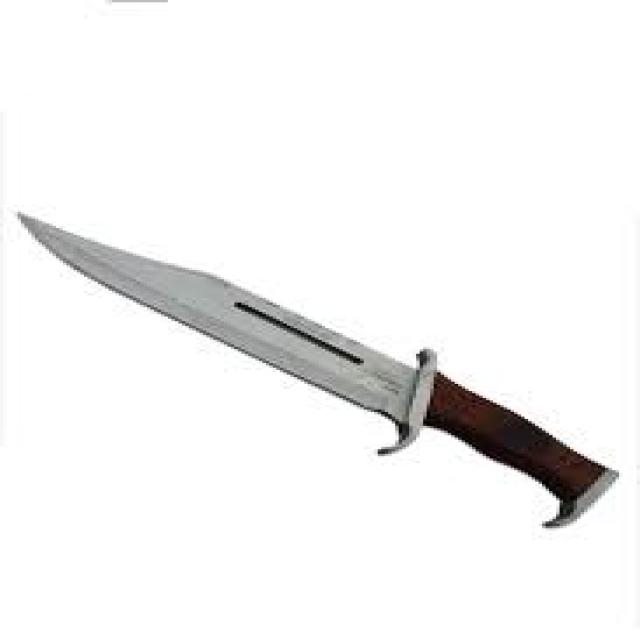knife: (15, 205, 629, 538)
